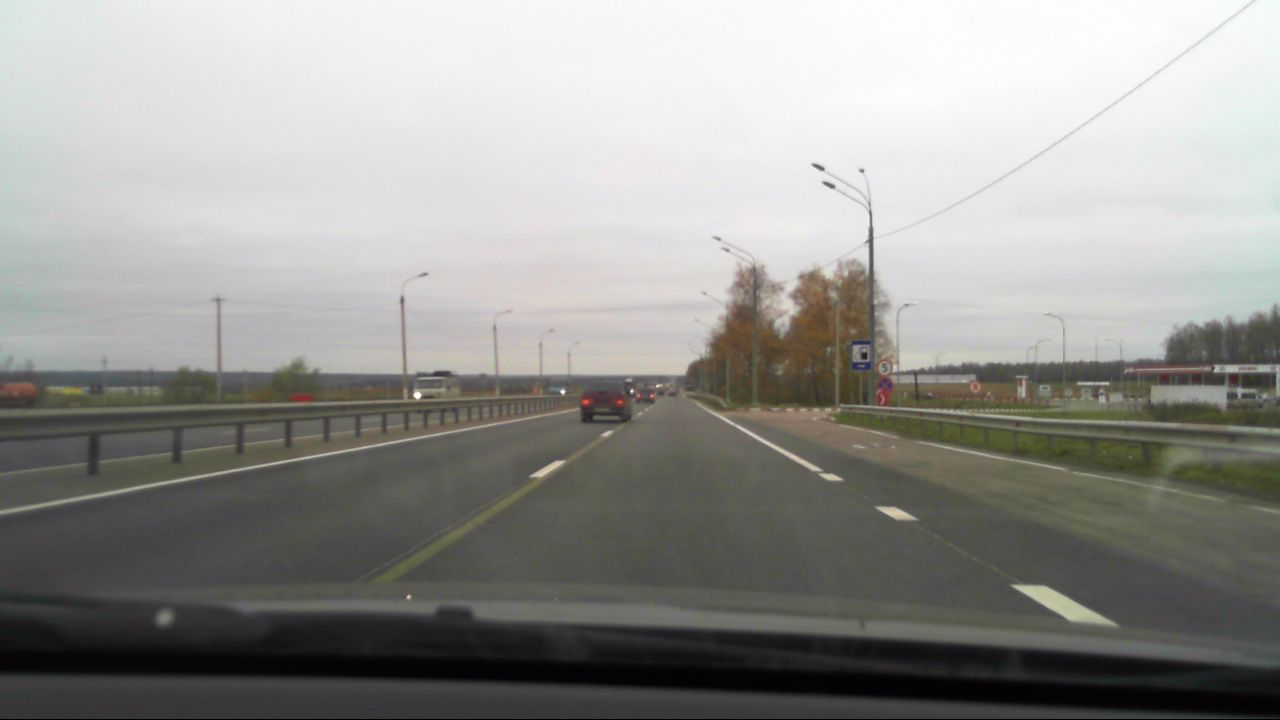No Parking: (877, 375, 894, 392)
